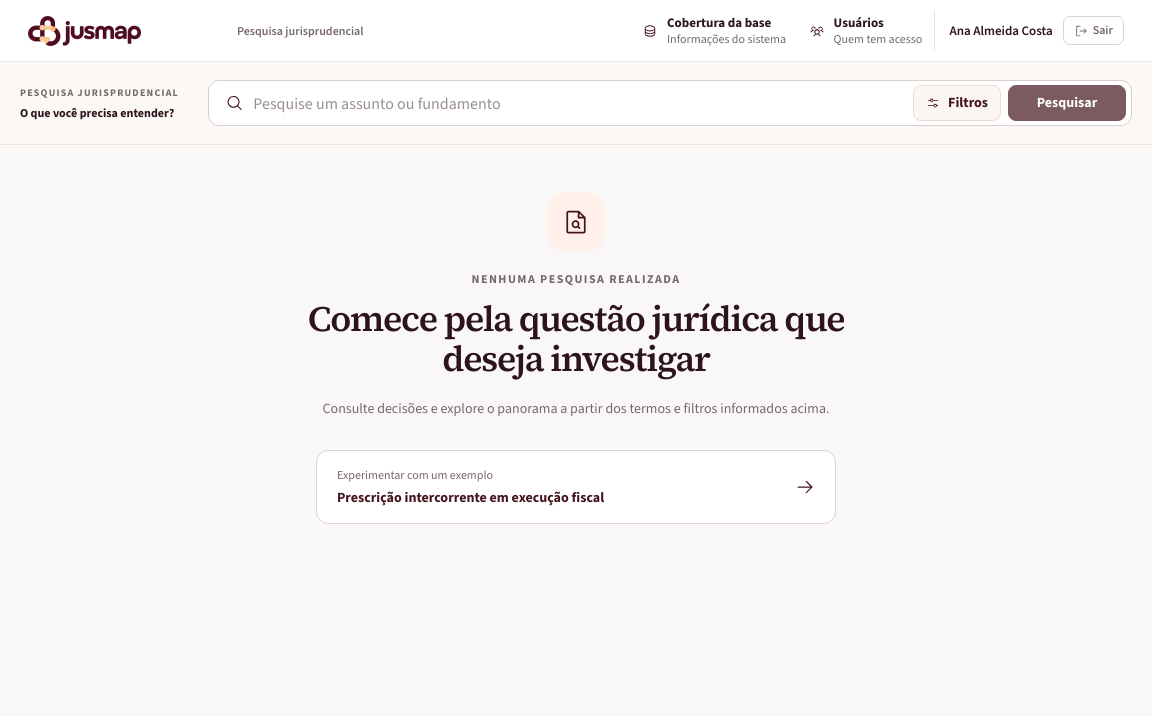
Scenario: the result tabs › are Documentos and Panorama, and nothing else
Type "prescrição intercorrente em execução fiscal" into the search field named "Pesquisar decisões" at (578, 103), box [253,85,903,121]
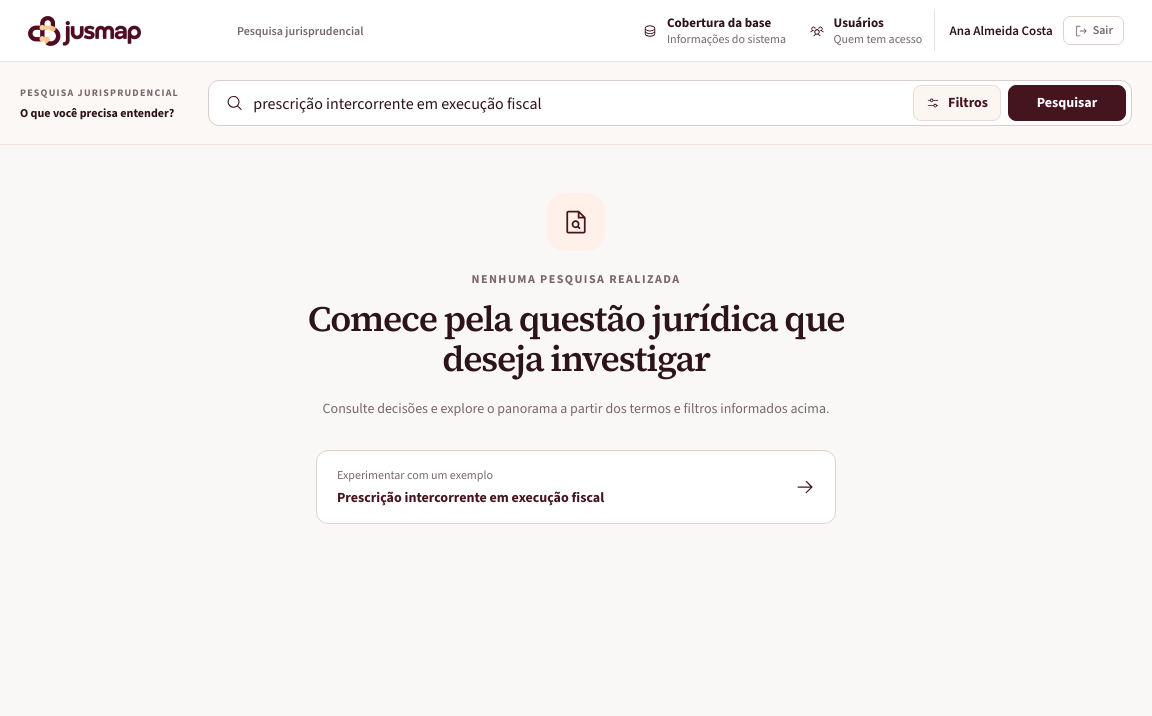
Click the button "Pesquisar" at (1067, 103), box [1008,85,1126,121]
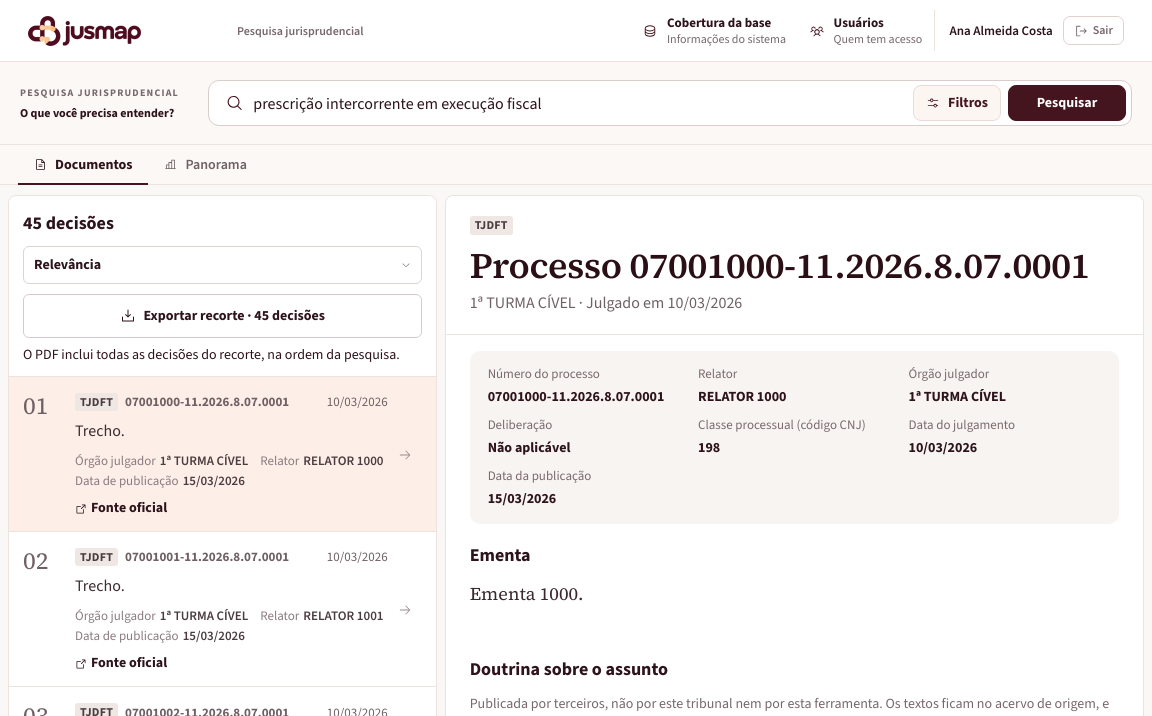
Check: the tabs read "Documentos", "Panorama", in this order, box [18,145,148,184]; [148,145,263,184]
